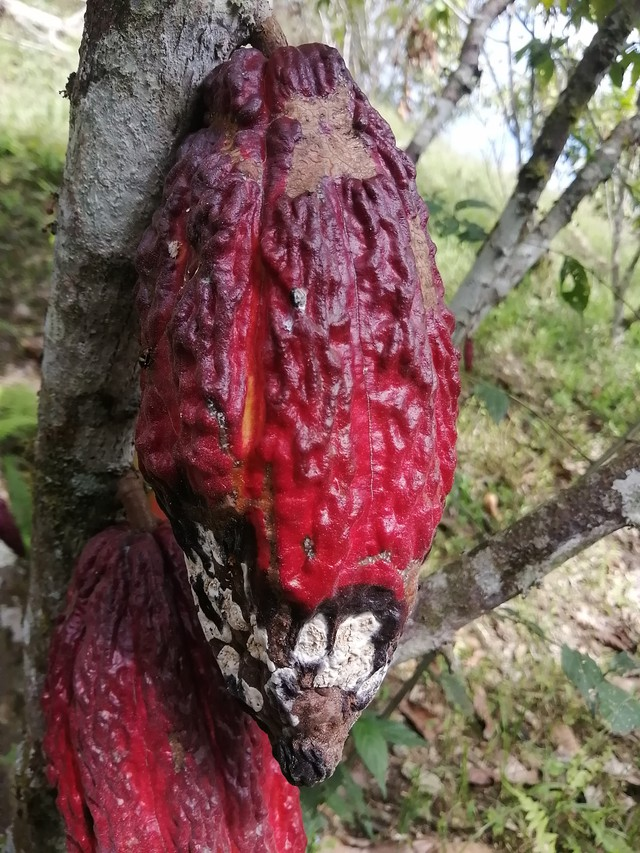moniliophthora roreri: (112, 28, 493, 805)
